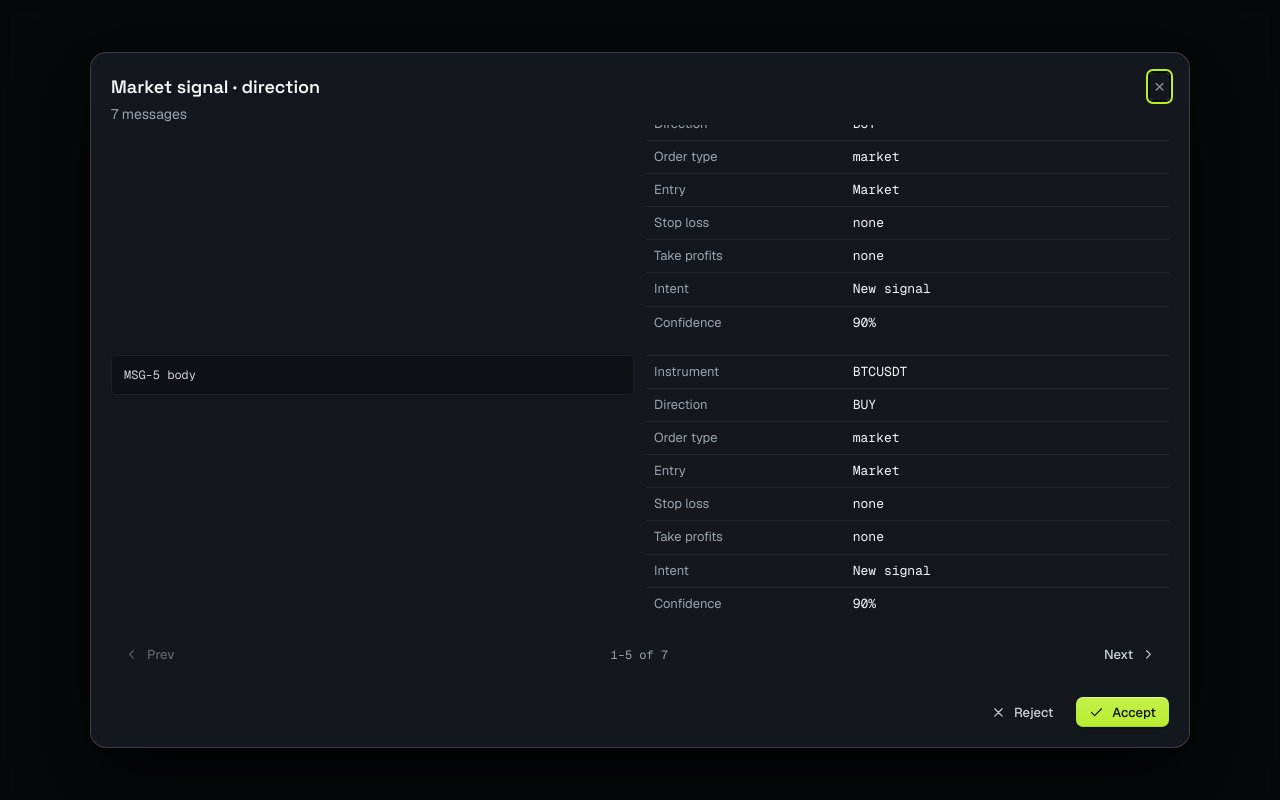
Test: TemplateExamplesDialog › pages forward to reveal the remaining messages
(page scrolled)
Click the button "Next" at (1130, 655), box [1091,640,1169,670]
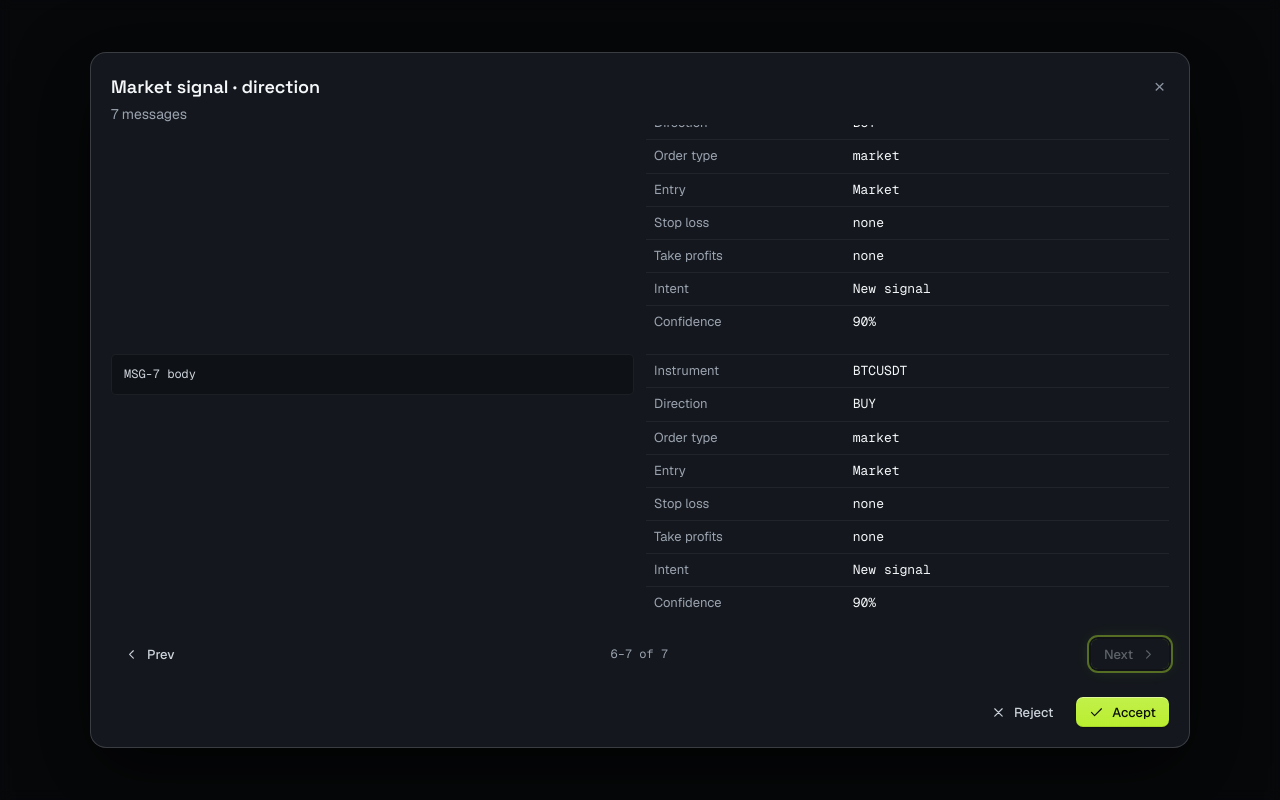
Check: the text "MSG-7 body" is shown, box [111,354,634,395]
Check: the text "6–7 of 7" is shown, box [610,645,668,664]
